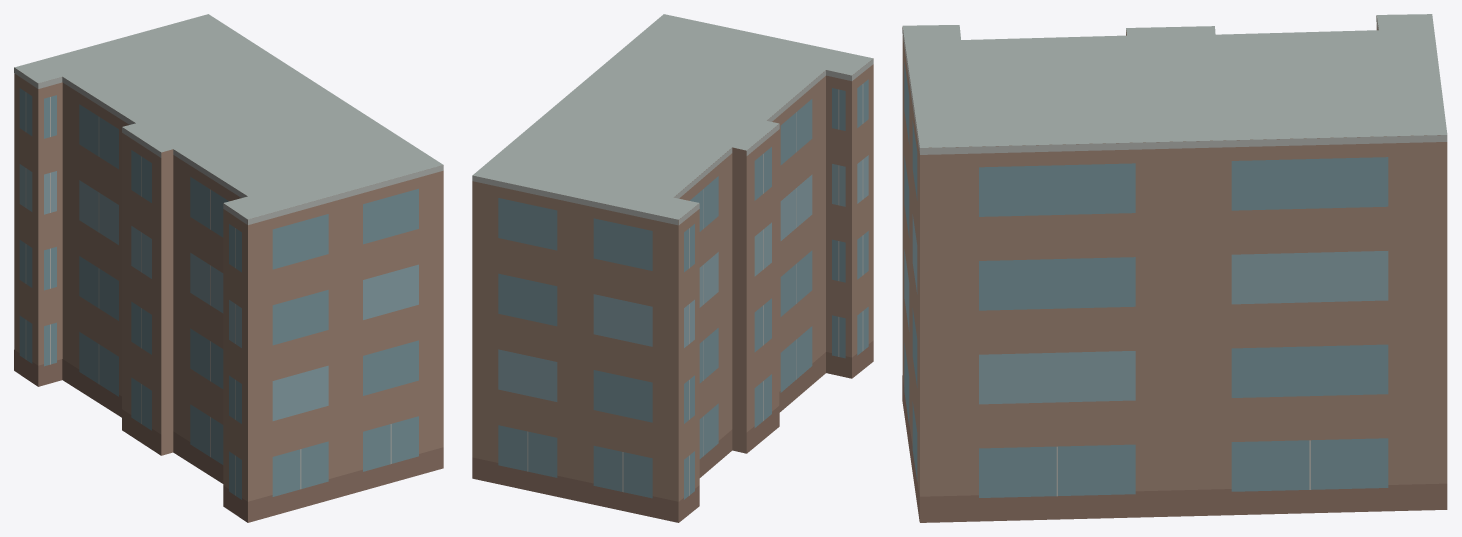
File: survey-upis-32744398.glb
3 views of the same model, side by side, from view 1: azimuth 30°, elevation 25°; view 2: azimuth 150°, elevation 25°; view 3: azimuth 270°, elevation 25° (orthographic). The views are drawn at different scales.
Visible parts, largest first — view 1: survey-upis-32744398.tmp; view 2: survey-upis-32744398.tmp; view 3: survey-upis-32744398.tmp.
Boxes of the visible parts, x1,y1,x2,y2 form: survey-upis-32744398.tmp: (14, 14, 443, 522); survey-upis-32744398.tmp: (472, 14, 873, 522); survey-upis-32744398.tmp: (902, 14, 1447, 522).
Bounding box in the file's own units: 10.01 × 13.05 × 17.2.
